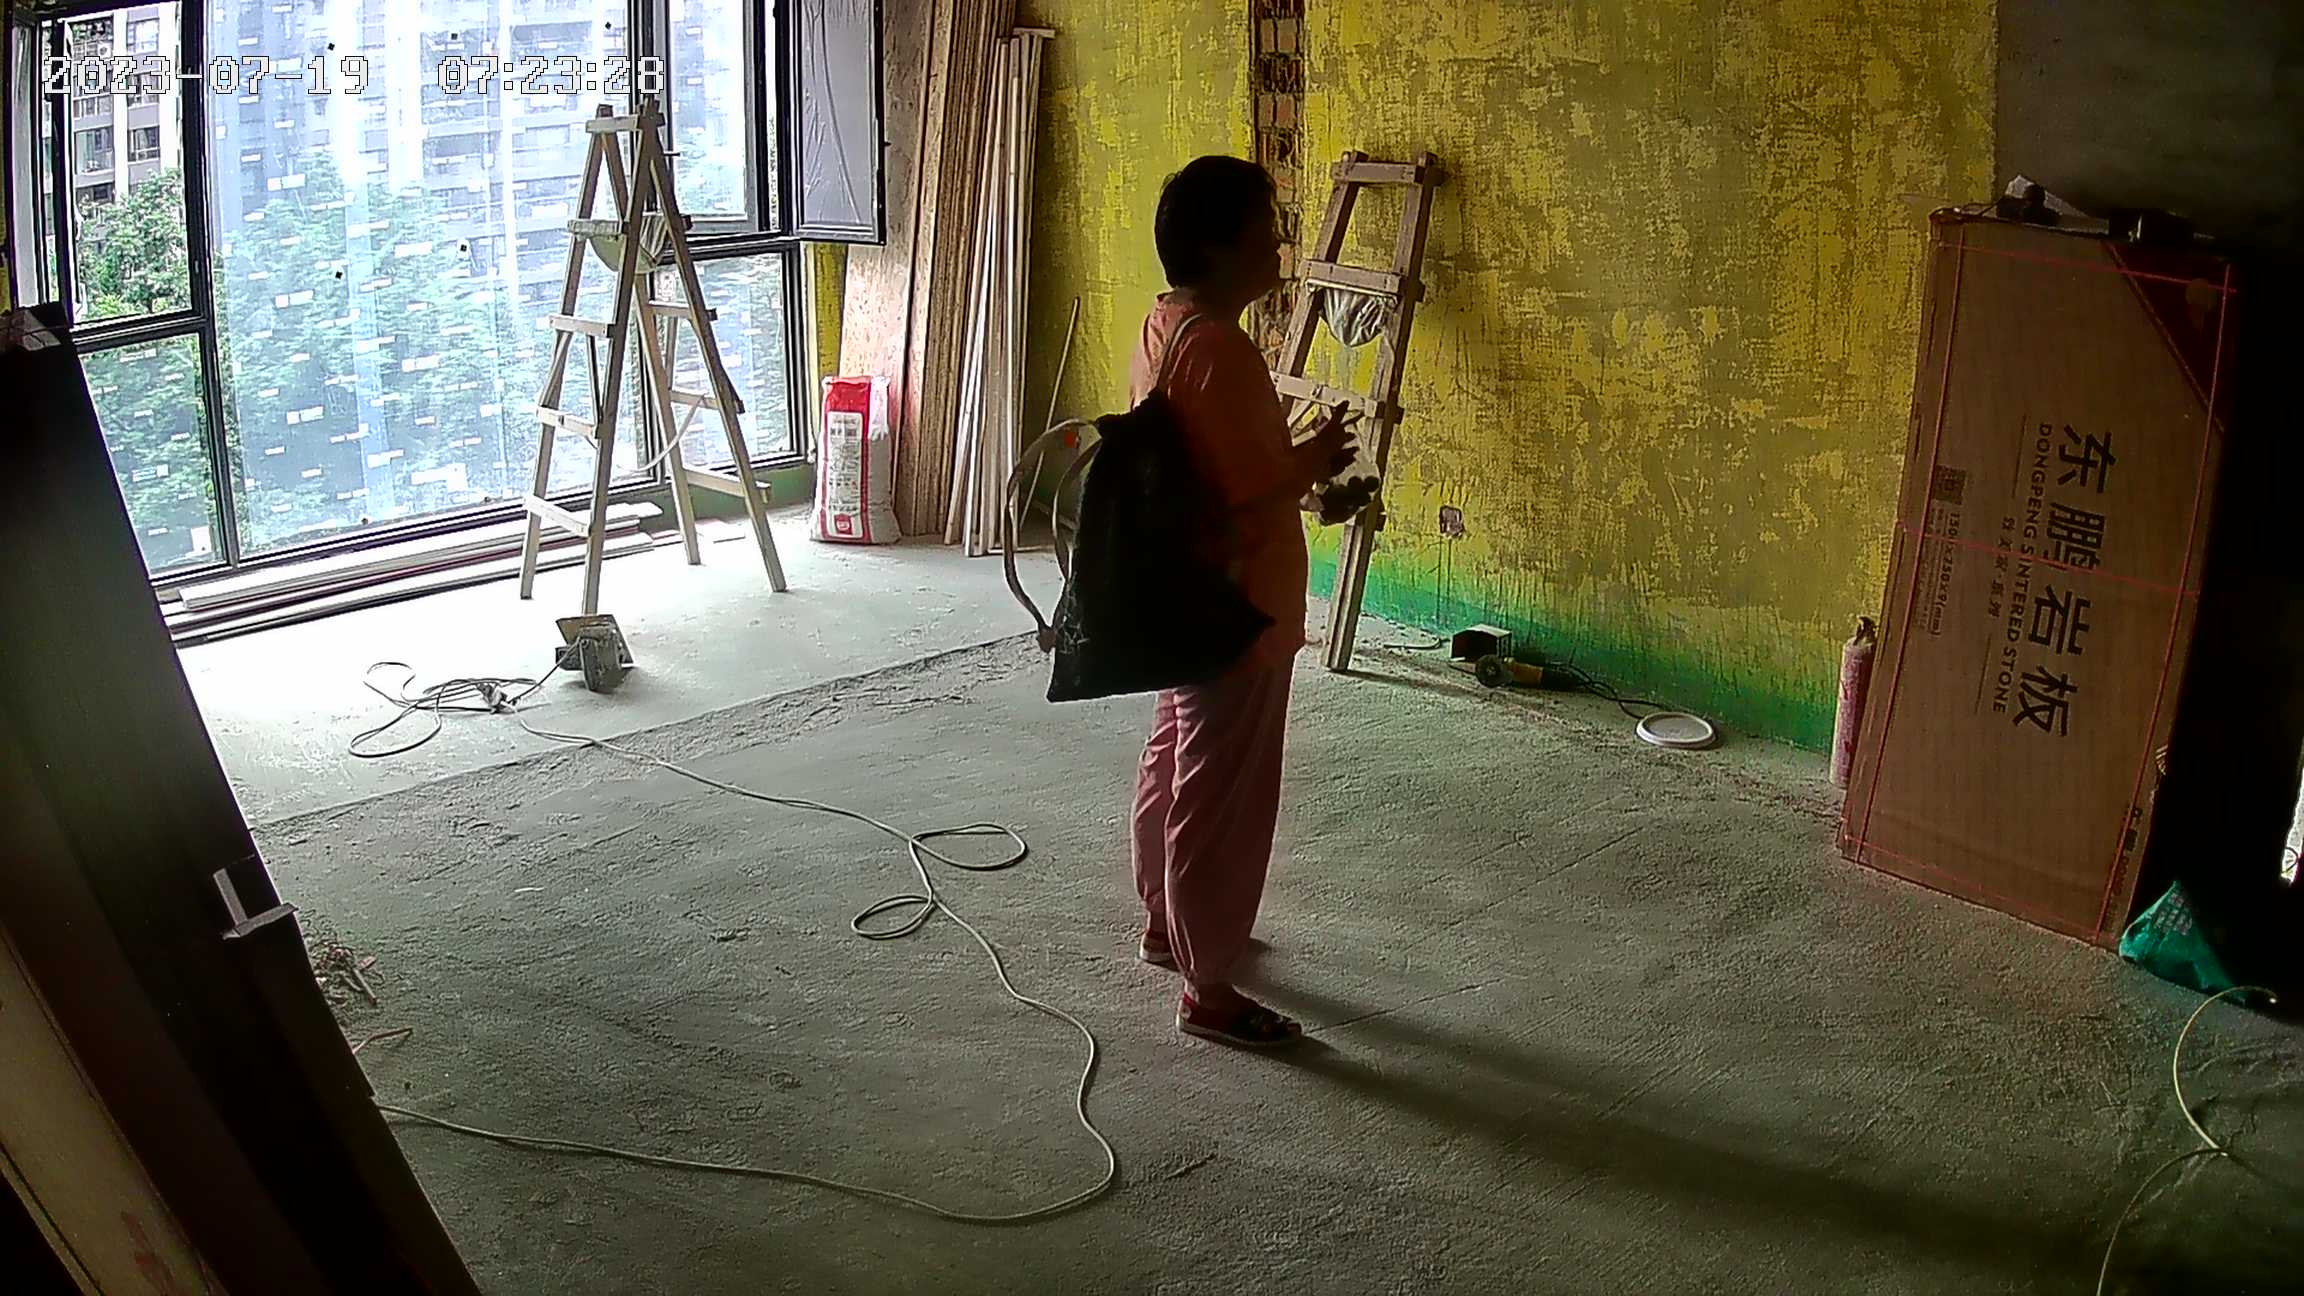people: (1126, 154, 1358, 1054)
window: (26, 17, 842, 601)
